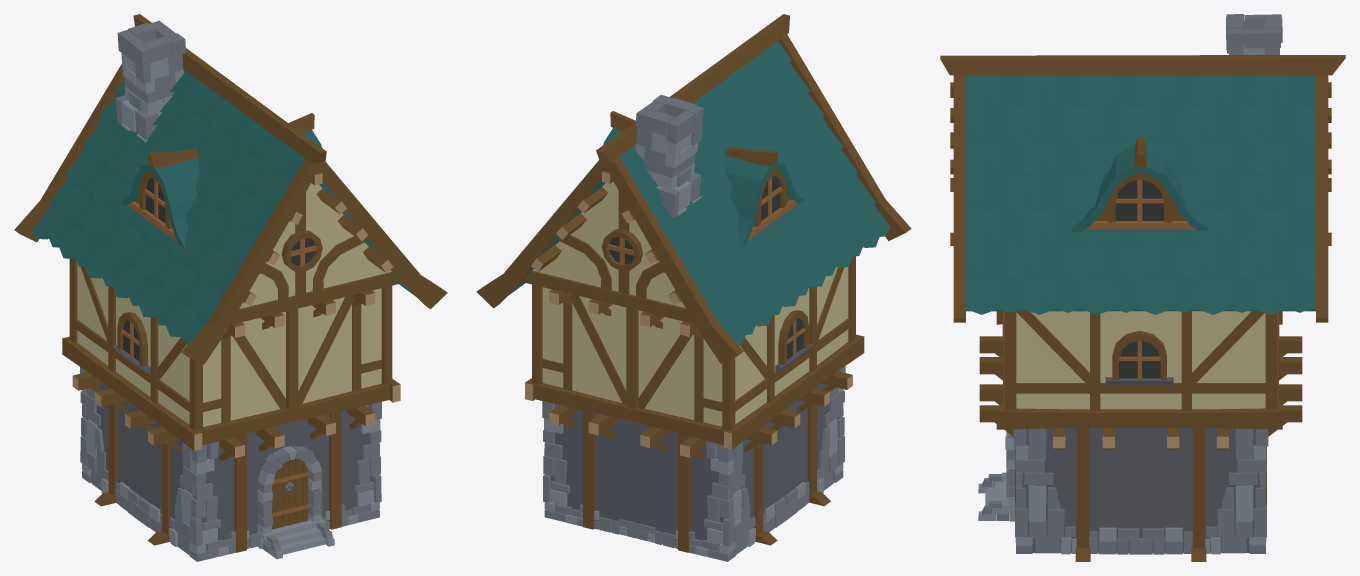
File: House_1.glb
3 views of the same model, side by side, from view 1: azimuth 30°, elevation 25°; view 2: azimuth 150°, elevation 25°; view 3: azimuth 270°, elevation 25° (orthographic). The views are drawn at different scales.
Parts seen in each view (by area): view 1: House_1; view 2: House_1; view 3: House_1.
Part boxes in pixels (<box>): House_1: <box>14,14,447,561</box>; House_1: <box>476,14,911,561</box>; House_1: <box>940,14,1345,561</box>.
Bounding box in the file's own units: 2.14 × 3.39 × 2.66.
Materials: 1 (1 with a texture image).
